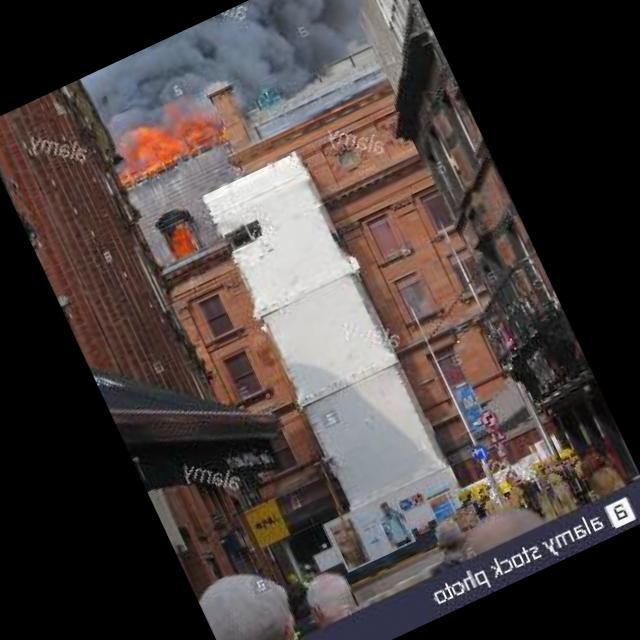fire: (104, 90, 232, 186)
smoke: (85, 0, 354, 137)
